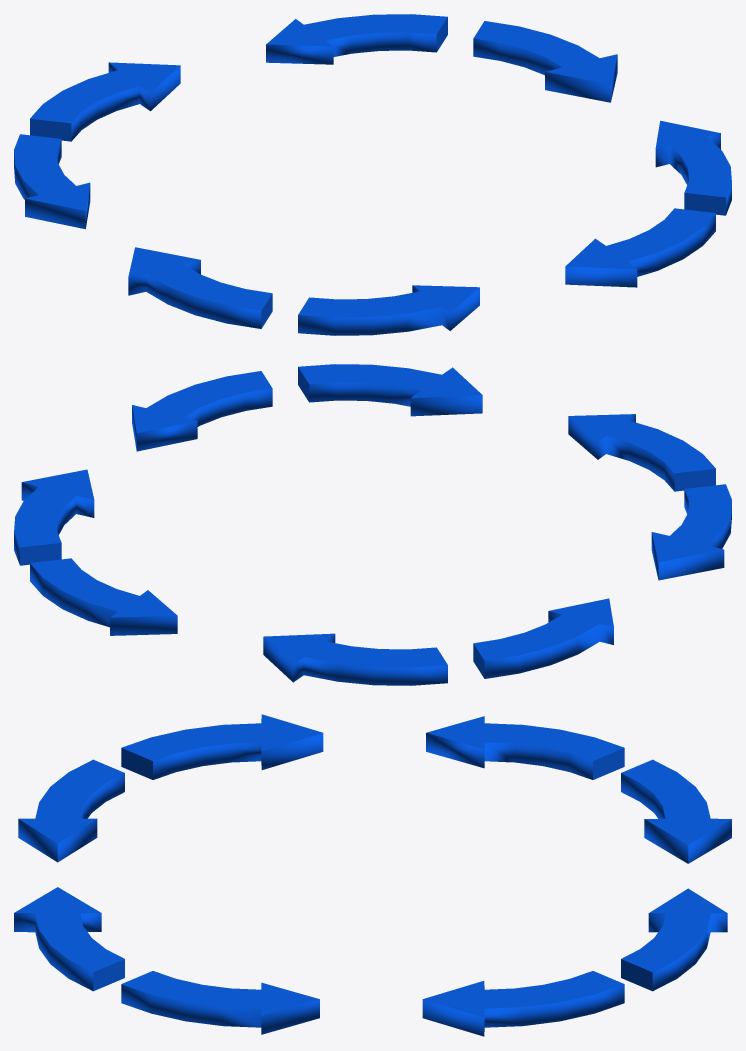
File: Arrows.fbx
3 views of the same model, one above another, from view 1: azimuth 30°, elevation 25°; view 2: azimuth 150°, elevation 25°; view 3: azimuth 270°, elevation 25° (orthographic). The views are drawn at different scales.
Parts seen in each view (by area): view 1: BottomLeftCCW, TopRightCCW, BottomRightCW, BottomLeftCW, TopRightCW, TopLeftCW, TopLeftCCW, BottomRightCCW; view 2: BottomRightCW, TopLeftCW, TopRightCCW, BottomLeftCCW, BottomRightCCW, TopLeftCCW, BottomLeftCW, TopRightCW; view 3: BottomLeftCW, TopRightCW, BottomRightCCW, TopLeftCCW, BottomRightCW, TopLeftCW, BottomLeftCCW, TopRightCCW.
Boxes of the visible parts, left/top/right/bottom form: BottomLeftCCW: left=298, top=285, right=479, bottom=335; TopRightCCW: left=266, top=14, right=447, bottom=64; BottomRightCW: left=565, top=208, right=715, bottom=287; BottomLeftCW: left=128, top=247, right=272, bottom=328; TopRightCW: left=473, top=21, right=617, bottom=102; TopLeftCW: left=30, top=62, right=180, bottom=141; TopLeftCCW: left=14, top=134, right=90, bottom=229; BottomRightCCW: left=655, top=120, right=731, bottom=215; BottomRightCW: left=298, top=364, right=482, bottom=416; TopLeftCW: left=263, top=633, right=447, bottom=685; TopRightCCW: left=30, top=558, right=177, bottom=635; BottomLeftCCW: left=568, top=414, right=715, bottom=491; BottomRightCCW: left=132, top=371, right=272, bottom=451; TopLeftCCW: left=473, top=598, right=613, bottom=678; BottomLeftCW: left=651, top=484, right=731, bottom=580; TopRightCW: left=14, top=469, right=94, bottom=565; BottomLeftCW: left=121, top=714, right=323, bottom=779; TopRightCW: left=422, top=971, right=624, bottom=1036; BottomRightCCW: left=121, top=971, right=319, bottom=1034; TopLeftCCW: left=426, top=716, right=624, bottom=779; BottomRightCW: left=14, top=887, right=124, bottom=991; TopLeftCW: left=621, top=759, right=731, bottom=863; BottomLeftCCW: left=18, top=759, right=124, bottom=862; TopRightCCW: left=621, top=888, right=727, bottom=991.
Bounding box in the file's own units: 1460 × 42.69 × 1460.
